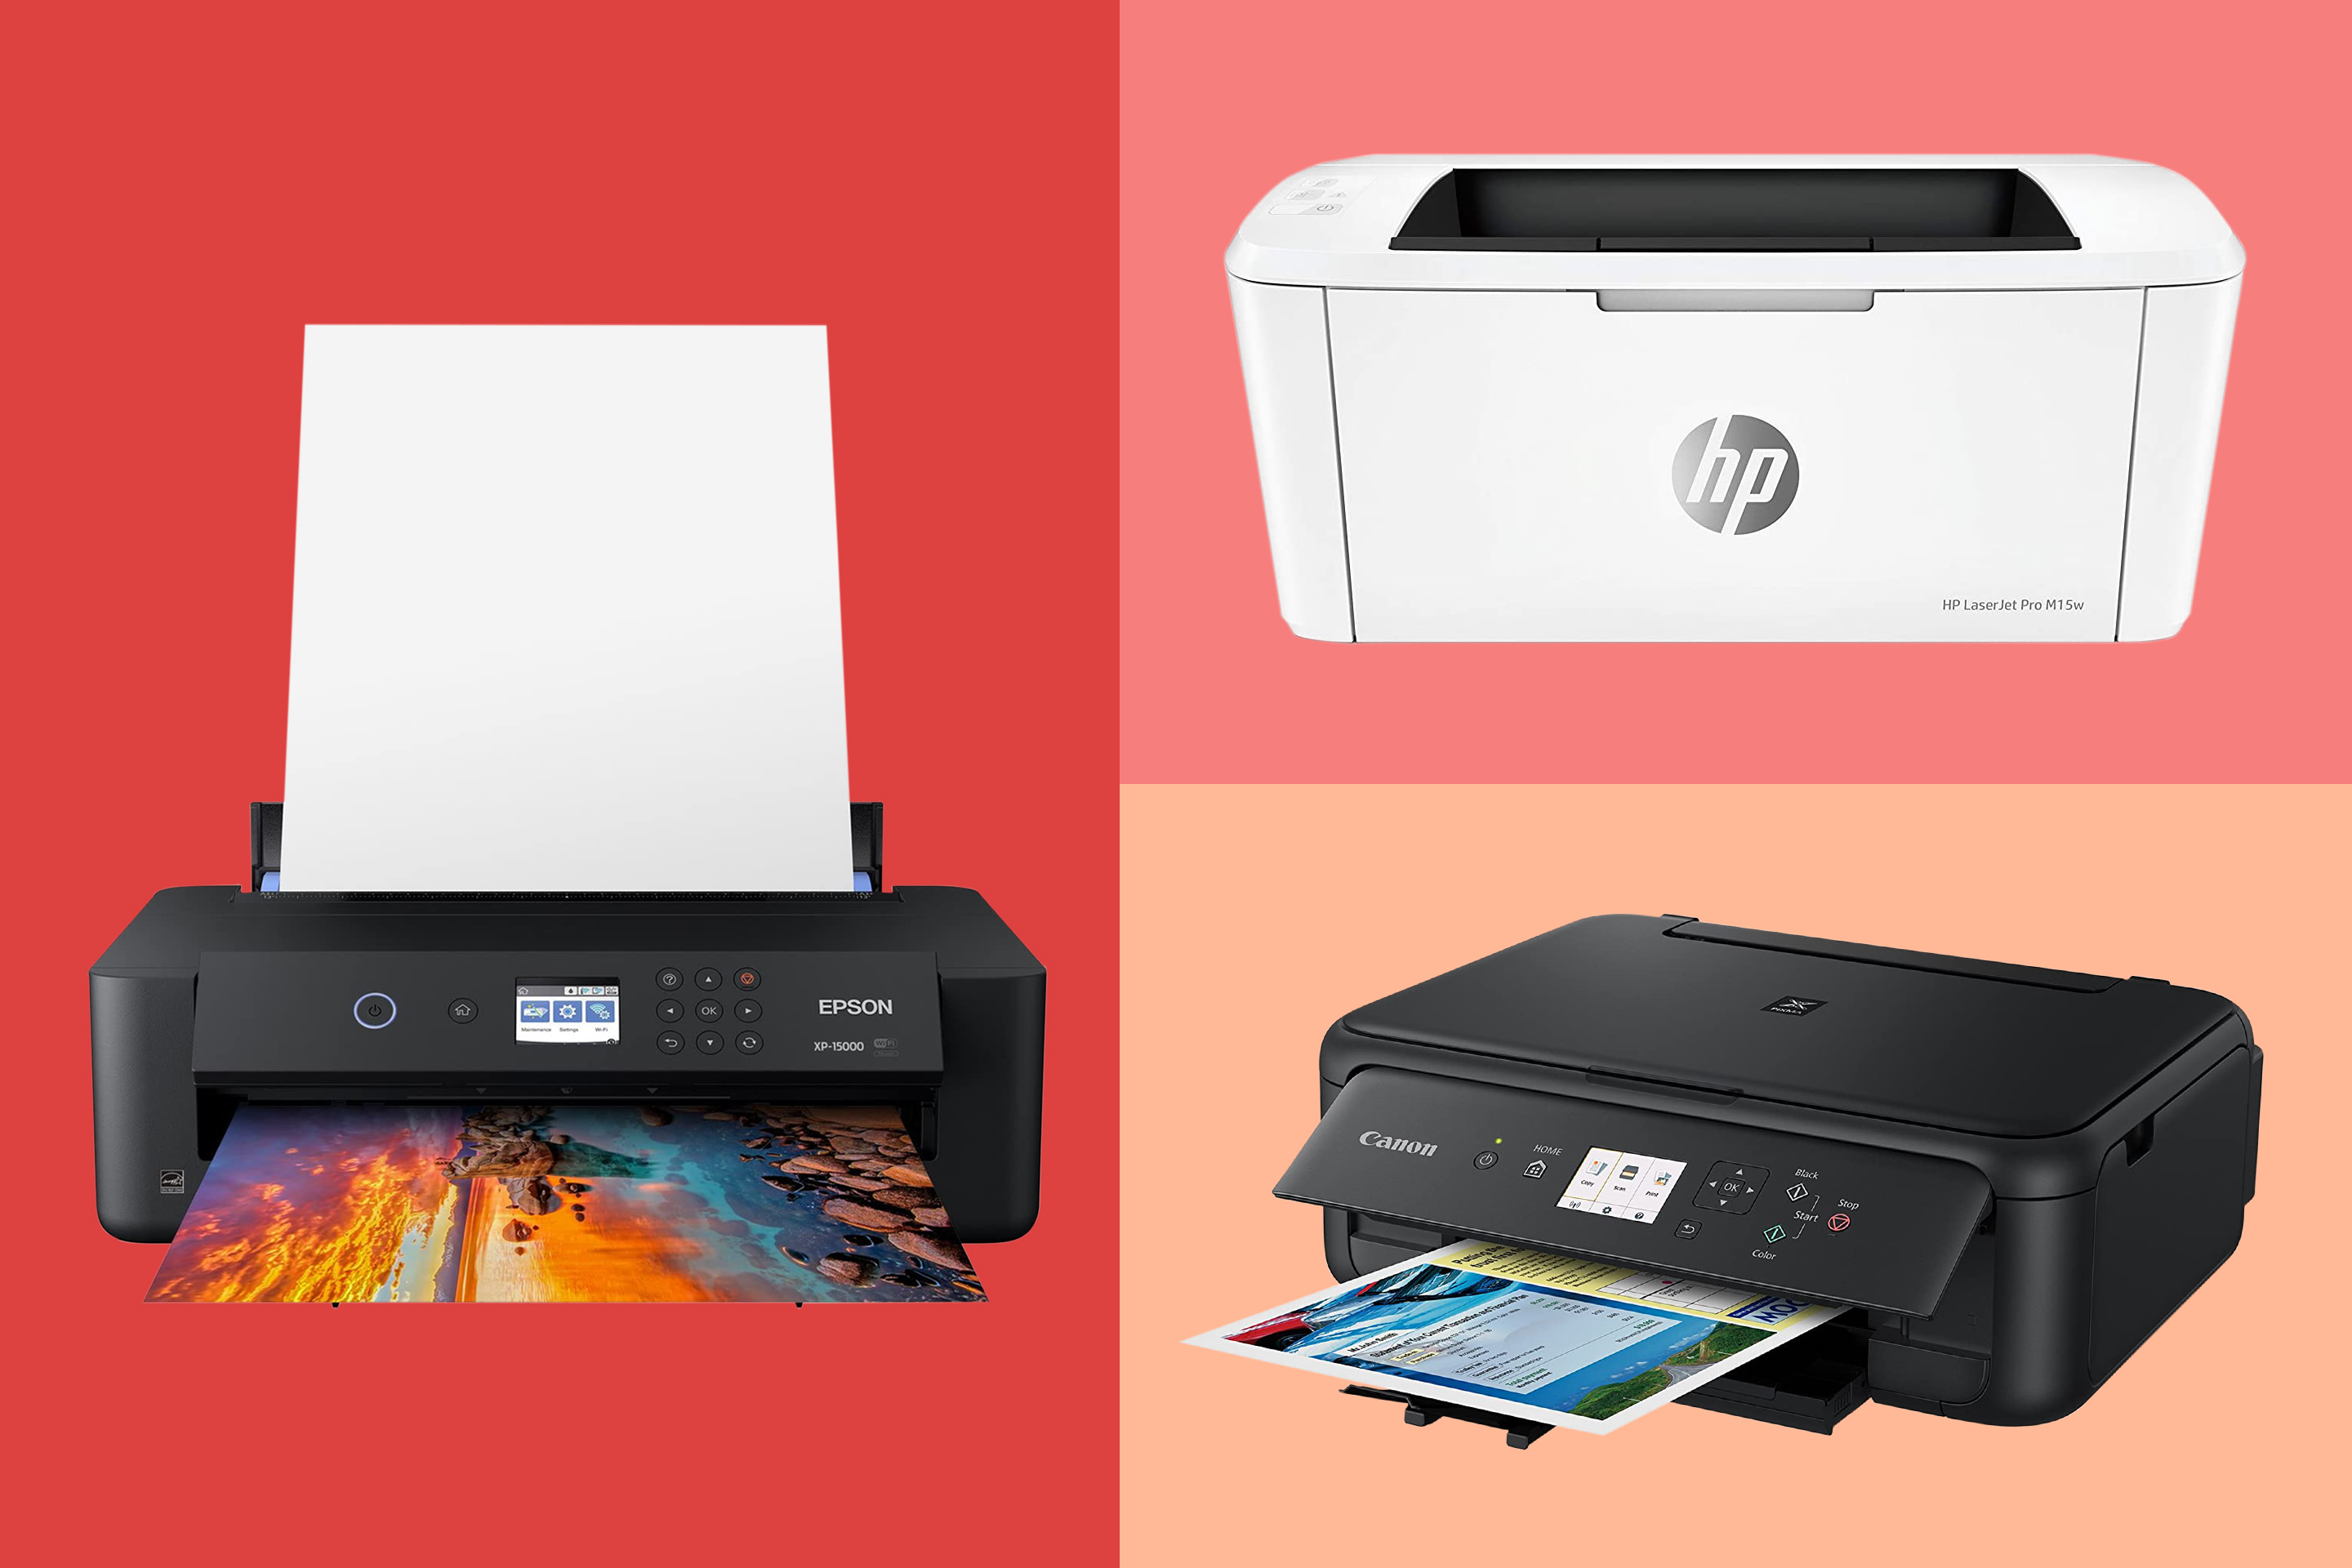printer: (79, 276, 1053, 1319), (1263, 899, 2264, 1452), (1214, 142, 2254, 654)
